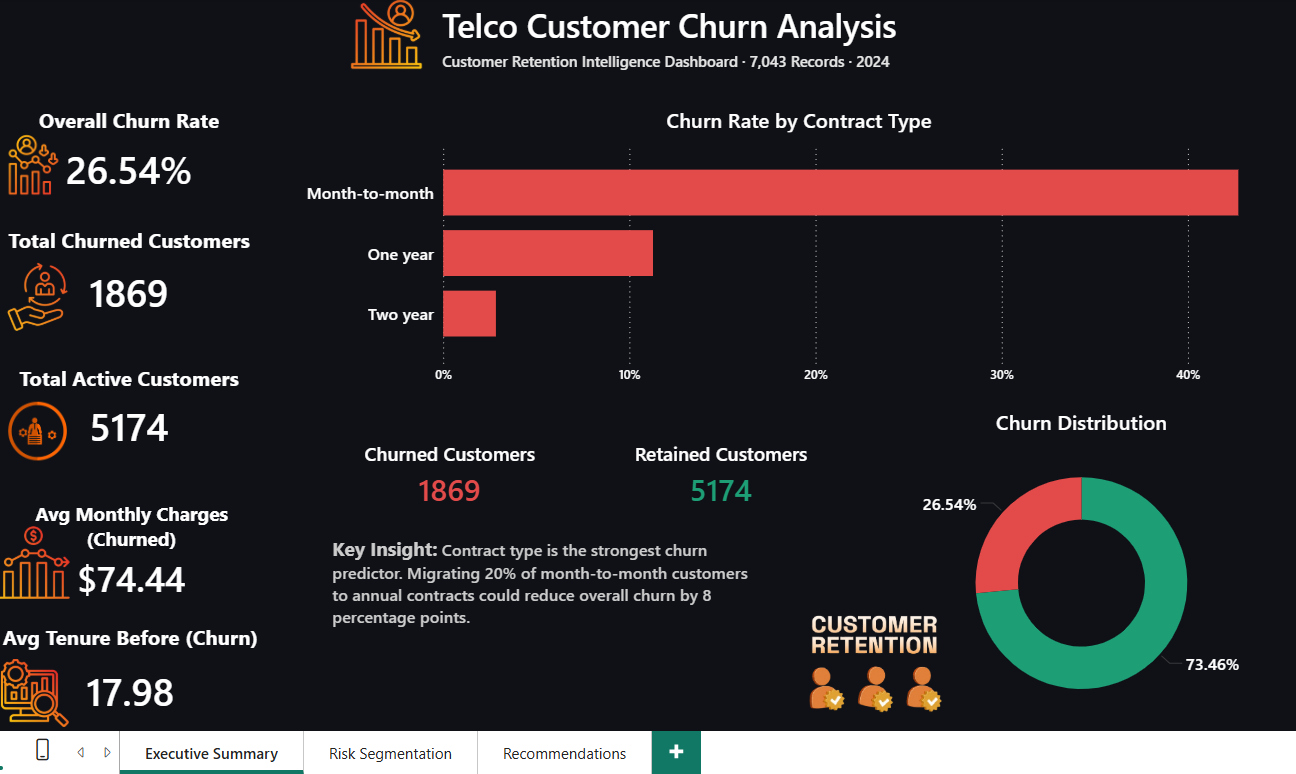

Layout of this report page (visuals, bound fields, positions):
{"tool":"powerbi","page":{"name":"Executive Summary","canvas":[1280,720],"ordinal":0},"visuals":[{"type":"card","title":"Overall Churn Rate","fields":{"Values":["Avg(Telco_Cleaned.Churn_Flag)"]},"box":[0,105.5,261.4,98.2],"z":0},{"type":"clusteredBarChart","title":"Churn Rate by Contract Type","fields":{"Category":["Telco_Cleaned.Contract"],"Y":["Avg(Telco_Cleaned.Churn_Flag)"]},"box":[298.2,105.5,980.4,282.2],"z":1000},{"type":"donutChart","title":"Churn Distribution","fields":{"Category":["Telco_Cleaned.Churn"],"Y":["CountNonNull(Telco_Cleaned.Churn_Flag)"]},"box":[852.8,402.5,425.8,317.8],"z":2000},{"type":"card","title":"Total Churned Customers","fields":{"Values":["CountNonNull(Telco_Cleaned.Churn_Flag)"]},"box":[0,223.3,261.4,104.3],"z":3000},{"type":"card","title":"Total Active Customers","fields":{"Values":["CountNonNull(Telco_Cleaned.Churn_Flag)"]},"box":[0,359.5,261.4,94.5],"z":4000},{"type":"card","title":"Avg Monthly Charges (Churned)","fields":{"Values":["Avg(Telco_Cleaned.MonthlyCharges)"]},"box":[2.5,493.3,261.4,104.3],"z":5000},{"type":"card","title":"Avg Tenure Before (Churn)","fields":{"Values":["Avg(Telco_Cleaned.tenure)"]},"box":[1.2,613.5,261.4,106.7],"z":6000},{"type":"card","title":"Churned Customers","fields":{"Values":["CountNonNull(Telco_Cleaned.Churn_Flag)"]},"box":[325.2,434.4,240.5,72.4],"z":7000},{"type":"card","title":"Retained Customers","fields":{"Values":["CountNonNull(Telco_Cleaned.Churn_Flag)"]},"box":[591.4,434.4,240.5,72.4],"z":8000},{"type":"textbox","box":[325.2,522.7,430.7,117.8],"z":9000},{"type":"textbox","box":[433.1,0,460.1,56.4],"z":10000},{"type":"textbox","box":[433.1,46.6,469.9,41.7],"z":11000},{"type":"image","box":[311.7,0,143.6,71.2],"z":11001},{"type":"image","box":[750.9,581.6,222.1,138.7],"z":11002},{"type":"image","box":[0,133.7,73.6,60.1],"z":11003},{"type":"image","box":[0,258.9,82.2,68.7],"z":11004},{"type":"image","box":[0,396.3,82.2,57.7],"z":11005},{"type":"image","box":[0,516.6,73.6,74.8],"z":11006},{"type":"image","box":[1.2,647.9,73.6,68.7],"z":11007}]}

Visuals, with their boxes on the page's 1280x720 design canvas (x1, y1, x2, y2). These are canvas units, not pixel positions in the 1296x774 screenshot, which may show the page scaled, cropped or inside an application window:
"Overall Churn Rate" card: box(0, 106, 261, 204)
"Churn Rate by Contract Type" clusteredBarChart: box(298, 106, 1279, 388)
"Churn Distribution" donutChart: box(853, 402, 1279, 720)
"Total Churned Customers" card: box(0, 223, 261, 328)
"Total Active Customers" card: box(0, 360, 261, 454)
"Avg Monthly Charges (Churned)" card: box(2, 493, 264, 598)
"Avg Tenure Before (Churn)" card: box(1, 614, 263, 720)
"Churned Customers" card: box(325, 434, 566, 507)
"Retained Customers" card: box(591, 434, 832, 507)
textbox: box(325, 523, 756, 640)
textbox: box(433, 0, 893, 56)
textbox: box(433, 47, 903, 88)
image: box(312, 0, 455, 71)
image: box(751, 582, 973, 720)
image: box(0, 134, 74, 194)
image: box(0, 259, 82, 328)
image: box(0, 396, 82, 454)
image: box(0, 517, 74, 591)
image: box(1, 648, 75, 717)
